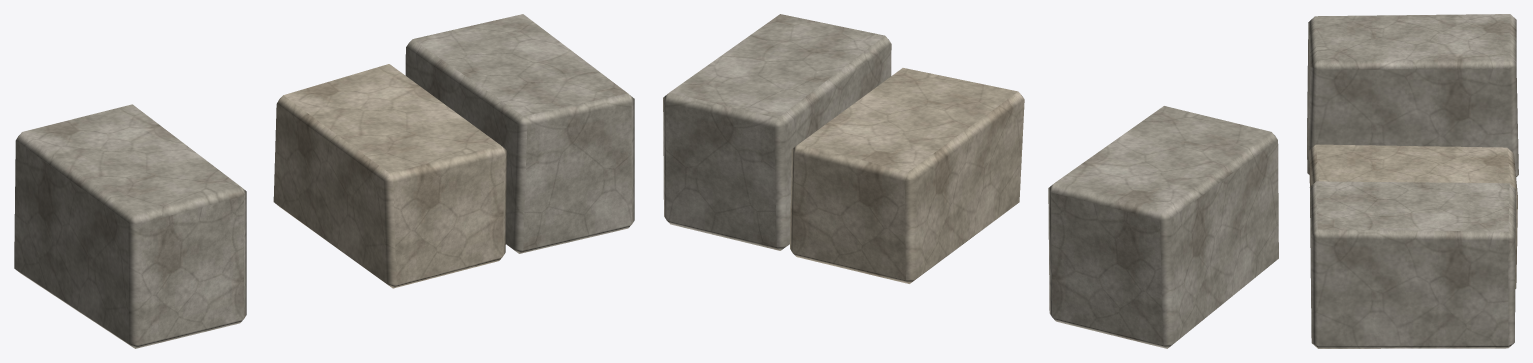
File: Stone_Top_2m.glb
The picture shows the model from 3 angles, left to right: view 1: azimuth 30°, elevation 25°; view 2: azimuth 150°, elevation 25°; view 3: azimuth 270°, elevation 25°; orthographic projection. The views are drawn at different scales.
Visible parts, largest first — view 1: Stone_Top_2m; view 2: Stone_Top_2m; view 3: Stone_Top_2m.
Boxes of the visible parts, x1=… form: Stone_Top_2m: x1=14, y1=14, x2=634, y2=348; Stone_Top_2m: x1=663, y1=14, x2=1278, y2=348; Stone_Top_2m: x1=1307, y1=14, x2=1518, y2=348.
Size of the model in its own units: 1.98 by 0.5196 by 0.8012.
2 materials, 2 textured.
